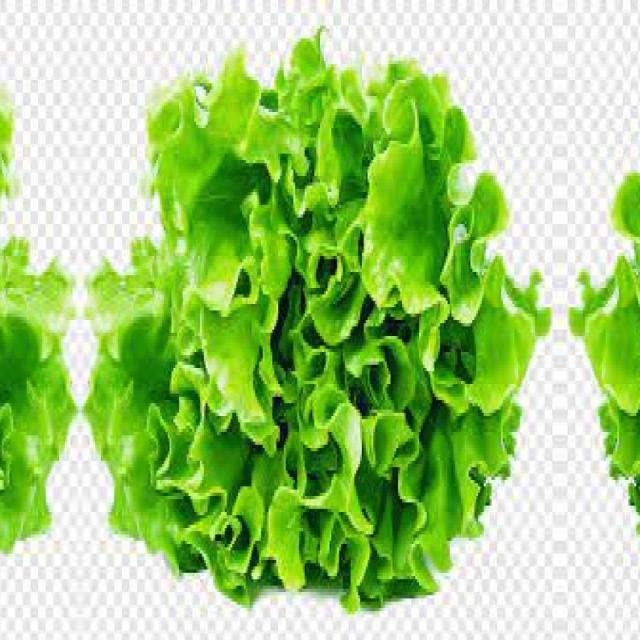healthy: (90, 29, 548, 614), (0, 28, 70, 613), (571, 28, 640, 613)
